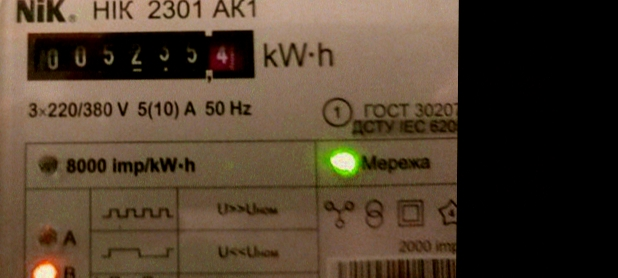0: (45, 45, 61, 70), (73, 43, 89, 67)
2: (128, 40, 145, 66)
3: (156, 37, 173, 62)
4: (213, 38, 232, 67)
5: (183, 36, 200, 65), (101, 41, 116, 66)
screen: (14, 17, 265, 91)
